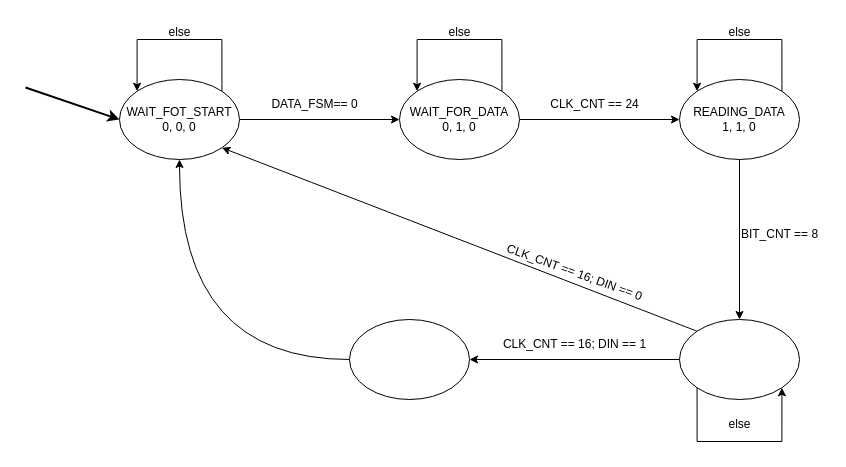
The diagram is 846 pixels wide and 467 high, and some of its shapes have lost their labels. Here are the shapes that lost their labels. From the top down, the centre of each, then its label:
At pixel 409 359: "VALIDATING 0, X, 1".
At pixel 739 359: "WAIT_FOR_STOP 0, 1, 0".
